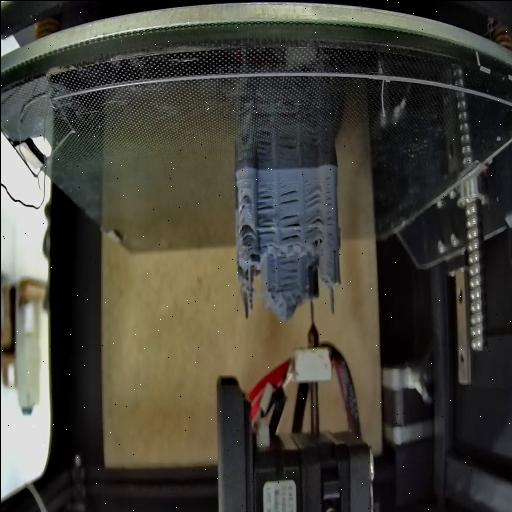cracks: (255, 186, 275, 242), (276, 256, 298, 291), (279, 212, 301, 246), (304, 217, 324, 241), (236, 221, 252, 249), (304, 186, 320, 212), (236, 190, 252, 216), (278, 186, 298, 206), (326, 182, 332, 236)
